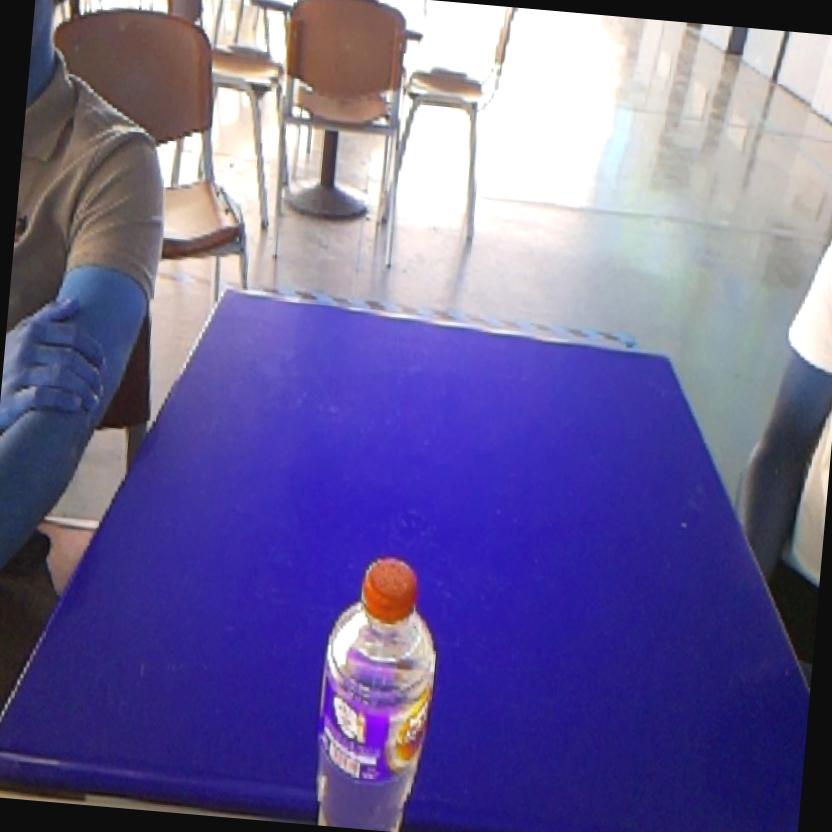good: (290, 527, 454, 832)
